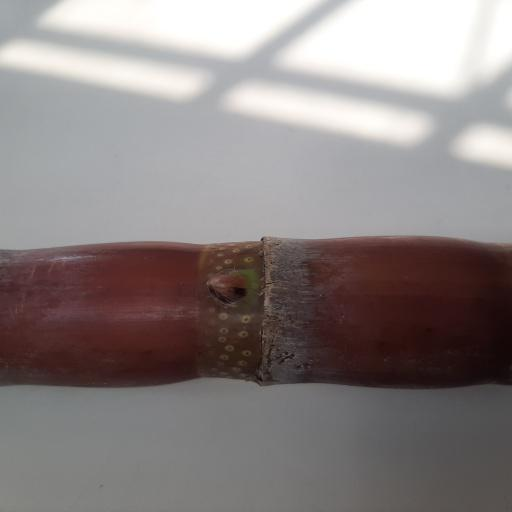Bud: (206, 267, 251, 305)
